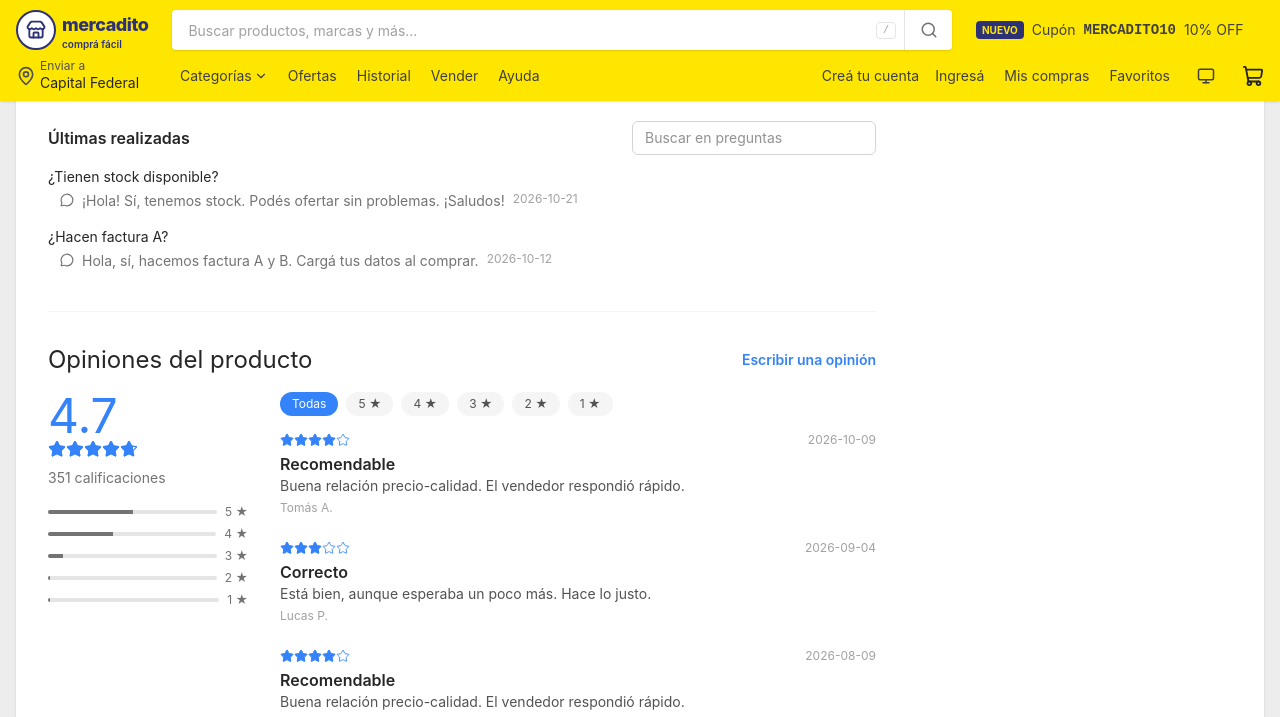
Test: App › writes a review
The width and height of the screenshot is (1280, 717).
(page scrolled)
Click the button "Escribir una opinión" at (809, 360), box [742,350,876,370]
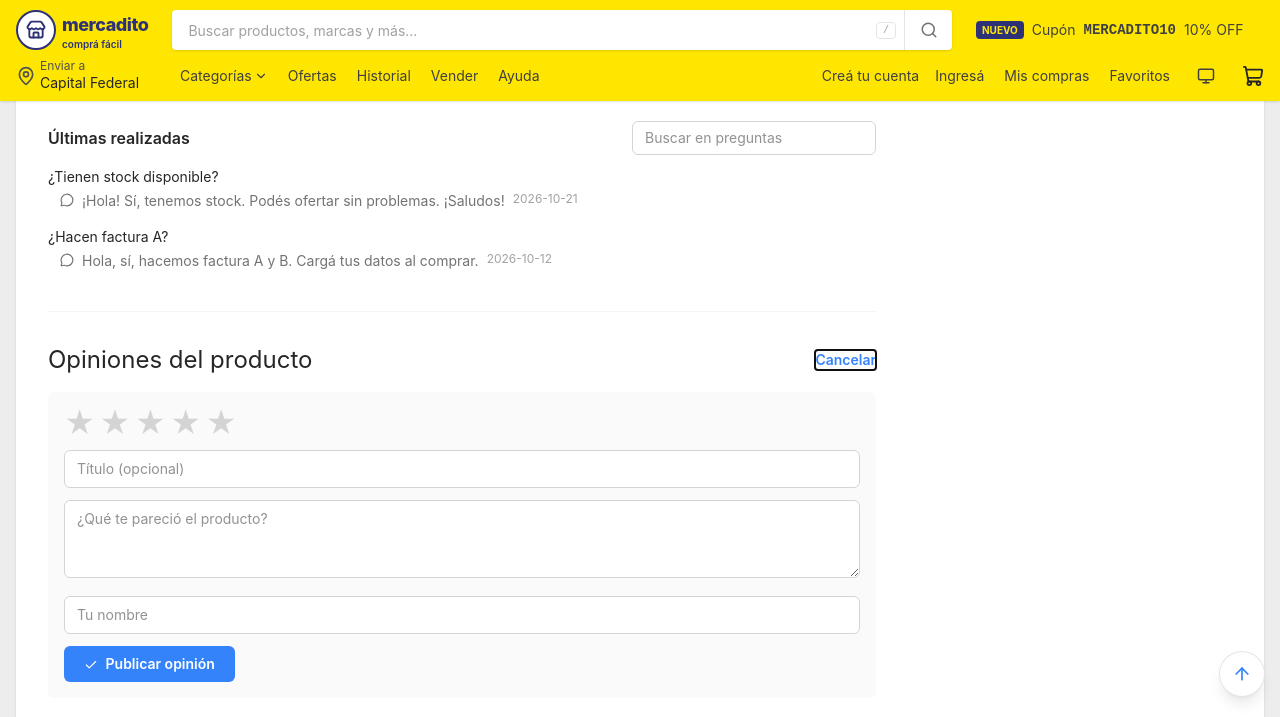
Click the radio button named "5 estrellas" at (221, 423), box [205,408,237,438]
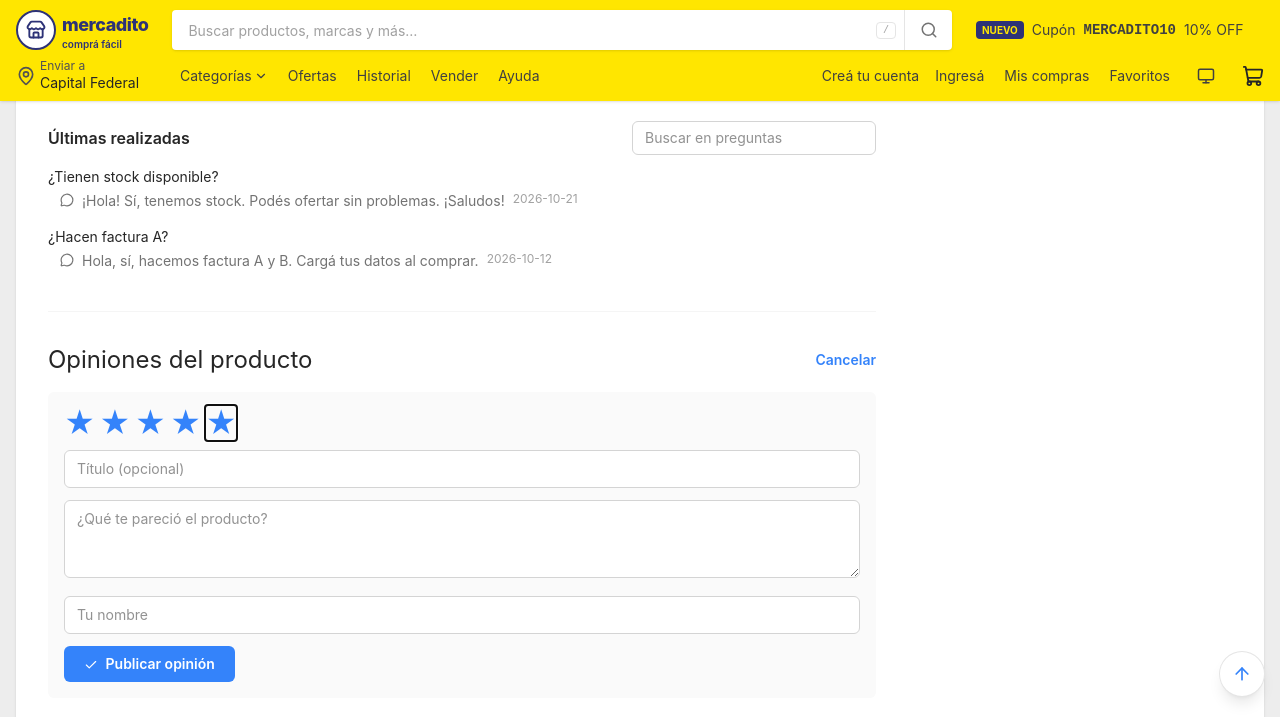
Type "Anda bárbaro, súper liviano." into the text box named "Tu opinión" at (462, 539), box [64,500,860,578]
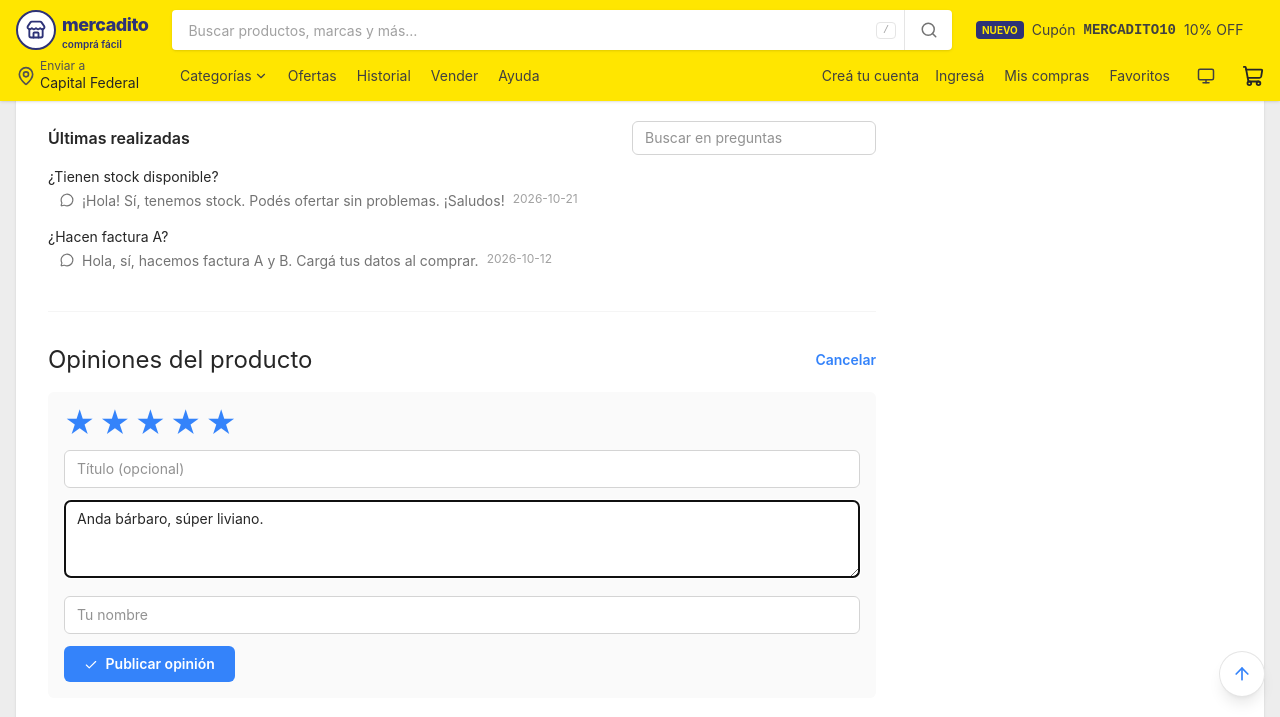
Click the button "Publicar opinión" at (149, 664), box [64,646,235,682]
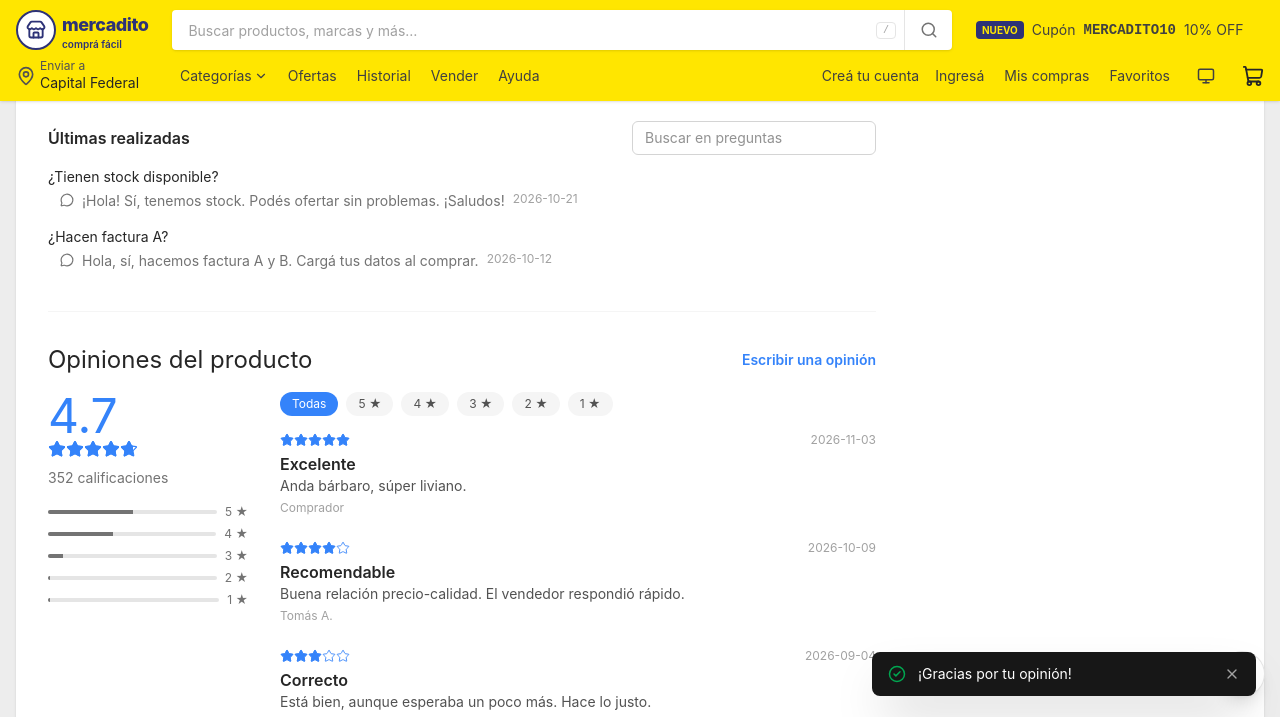
Check: the text "Anda bárbaro, súper liviano." is shown, box [280,477,466,494]
